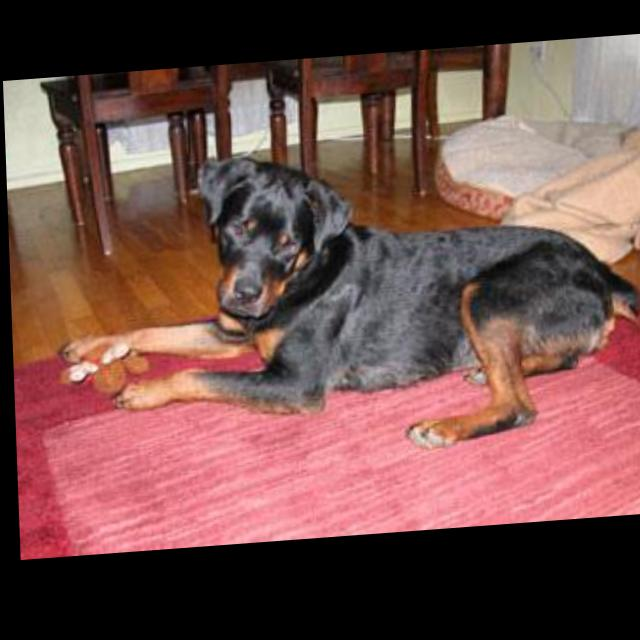rottweiler: (51, 132, 640, 476)
